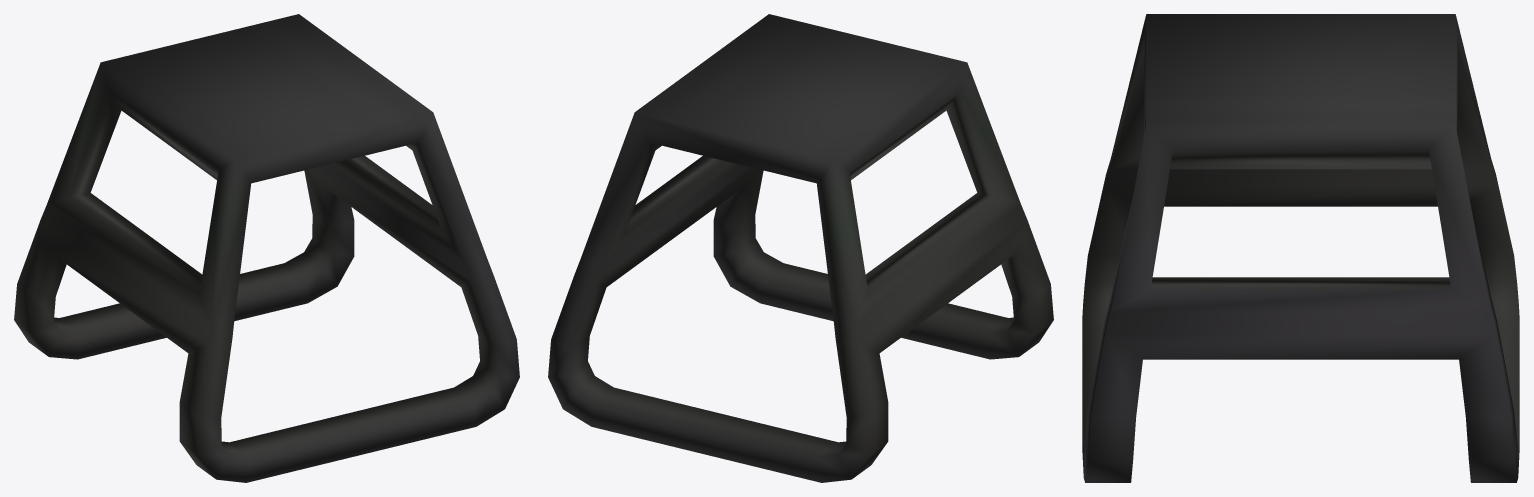
The model's file is DirtBikeStand.glb.
3 views of the same model, side by side, from view 1: azimuth 30°, elevation 25°; view 2: azimuth 150°, elevation 25°; view 3: azimuth 270°, elevation 25° (orthographic). The views are drawn at different scales.
Visible parts, largest first — view 1: DirtBikeStand; view 2: DirtBikeStand; view 3: DirtBikeStand.
Part boxes in pixels (x1,y1,x2,y2): DirtBikeStand: (14, 14, 519, 482); DirtBikeStand: (548, 14, 1053, 482); DirtBikeStand: (1082, 14, 1519, 482).
Size of the model in its own units: 0.5023 by 0.4466 by 0.5154.
Materials: 1 (1 with a texture image).
